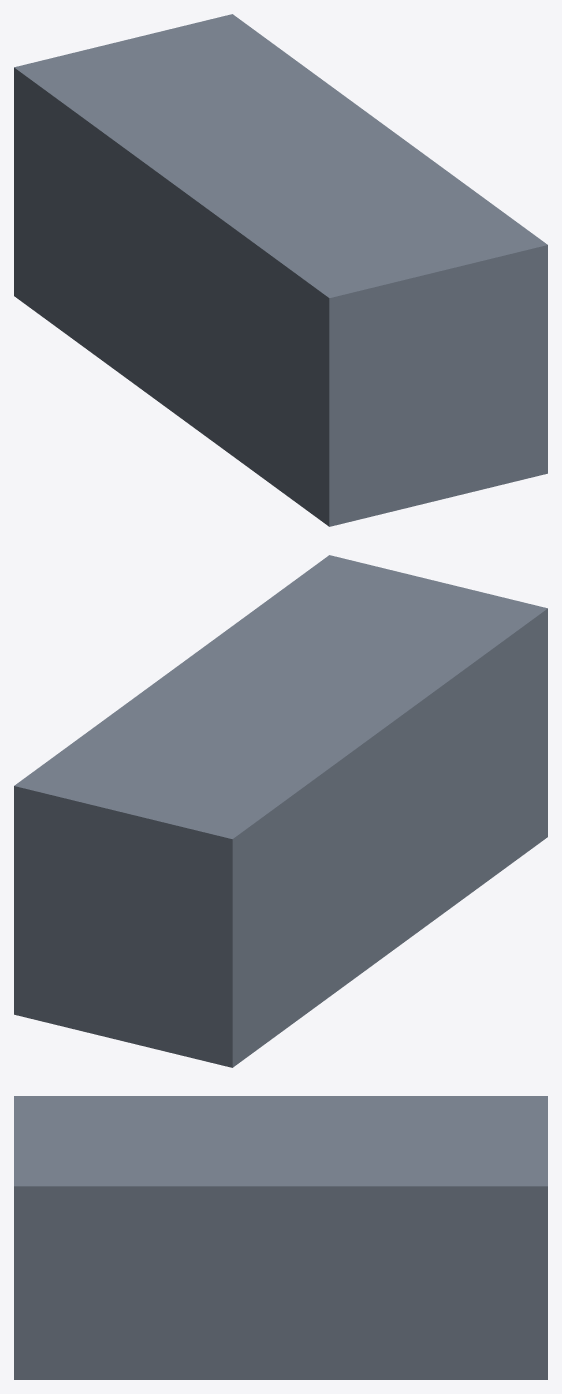
File: ups.glb
3 renders of one model, top to bottom at view 1: azimuth 30°, elevation 25°; view 2: azimuth 150°, elevation 25°; view 3: azimuth 270°, elevation 25°, orthographic. The views are drawn at different scales.
Visible parts, largest first — view 1: ups_0; view 2: ups_0; view 3: ups_0.
Boxes of the visible parts, x1=… form: ups_0: x1=14, y1=14, x2=547, y2=526; ups_0: x1=14, y1=555, x2=547, y2=1067; ups_0: x1=14, y1=1096, x2=547, y2=1379.
Bounding box in the file's own units: 0.62 × 0.64 × 1.55.
